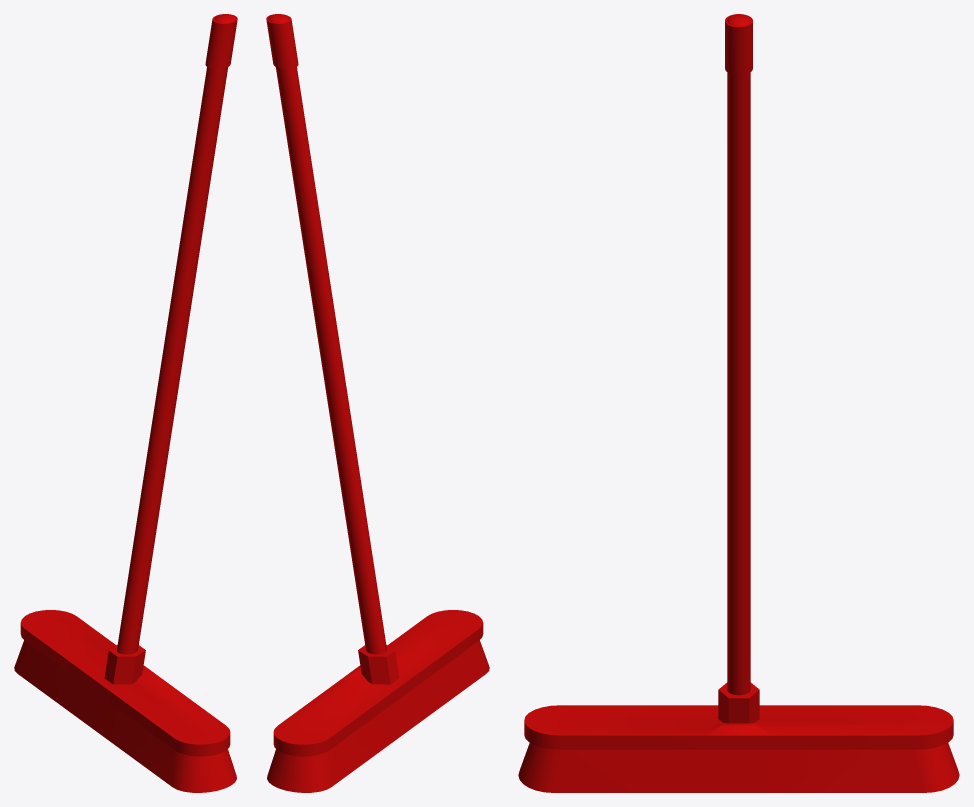
File: broom.fbx
3 views of the same model, side by side, from view 1: azimuth 30°, elevation 25°; view 2: azimuth 150°, elevation 25°; view 3: azimuth 270°, elevation 25° (orthographic). The views are drawn at different scales.
Visible parts, largest first — view 1: Handle_001; view 2: Handle_001; view 3: Handle_001.
Part boxes in pixels (left/top/right/bottom): Handle_001: left=14, top=14, right=237, bottom=792; Handle_001: left=266, top=14, right=489, bottom=792; Handle_001: left=518, top=14, right=959, bottom=792.
Size of the model in its own units: 27.65 by 128 by 62.62.
